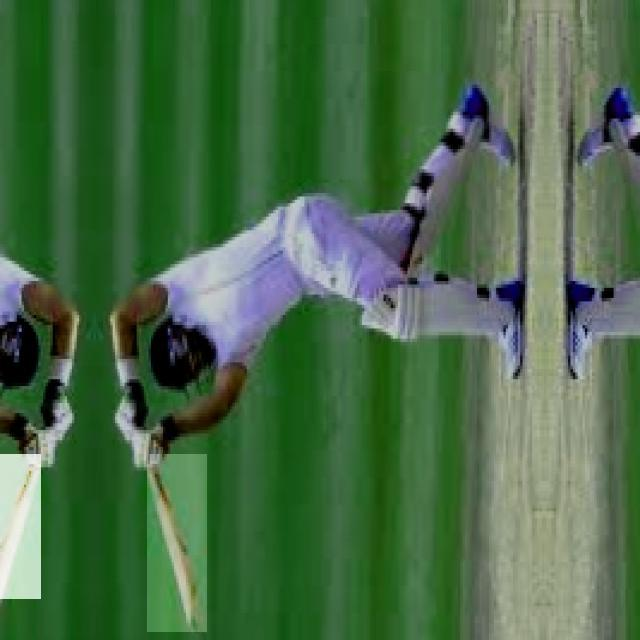bat: (149, 454, 208, 633)
toe: (176, 612, 216, 638)
